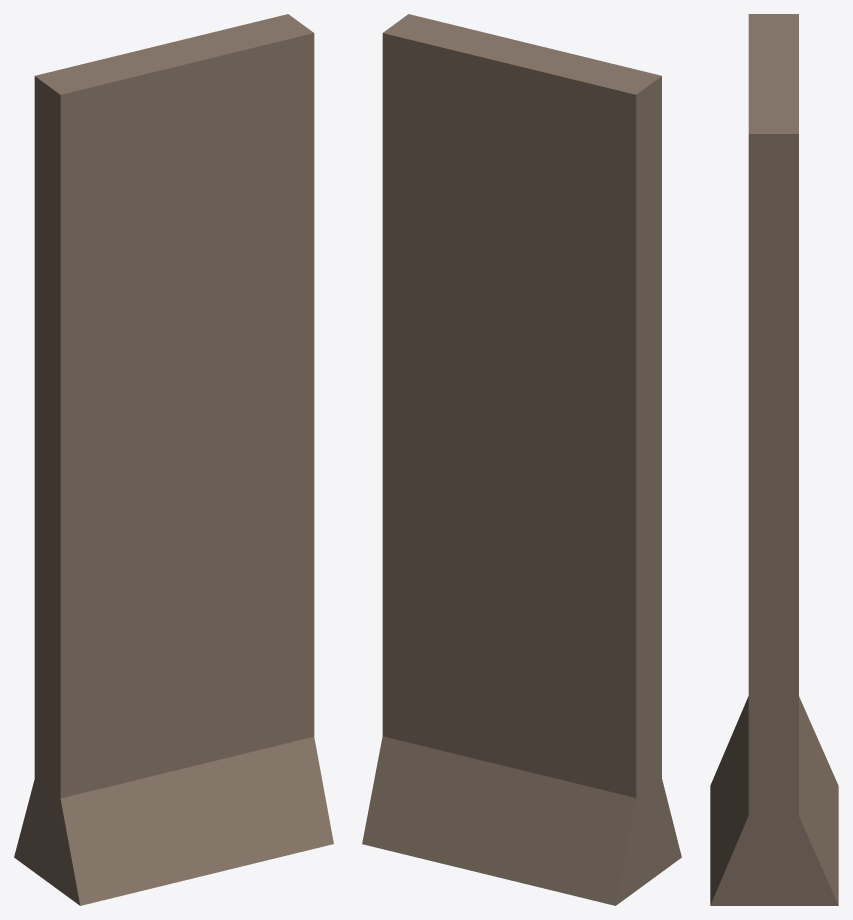
File: wall1.fbx
3 renders of one model, left to right at view 1: azimuth 30°, elevation 25°; view 2: azimuth 150°, elevation 25°; view 3: azimuth 270°, elevation 25°, orthographic. The views are drawn at different scales.
Visible parts, largest first — view 1: wall1; view 2: wall1; view 3: wall1.
Boxes of the visible parts, x1=… form: wall1: x1=14, y1=14, x2=333, y2=905; wall1: x1=362, y1=14, x2=681, y2=905; wall1: x1=710, y1=14, x2=838, y2=905.
Size of the model in its own units: 100 by 300 by 45.28.
